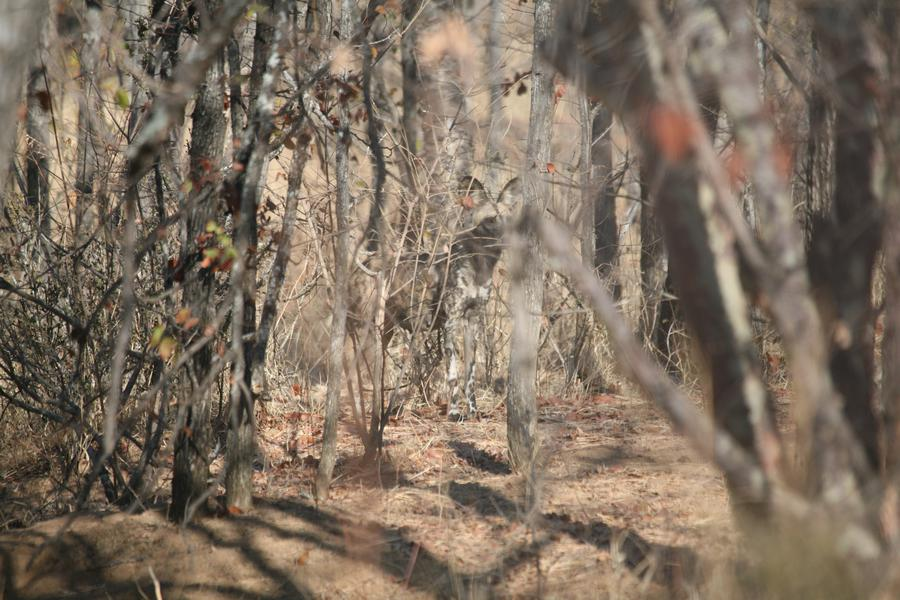wilddog: (352, 178, 518, 340)
